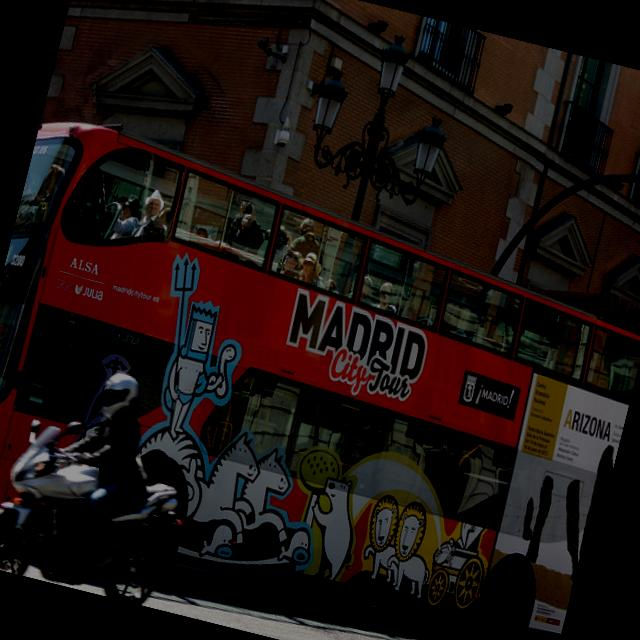Vehicle: (0, 109, 640, 640), (0, 415, 196, 609)
